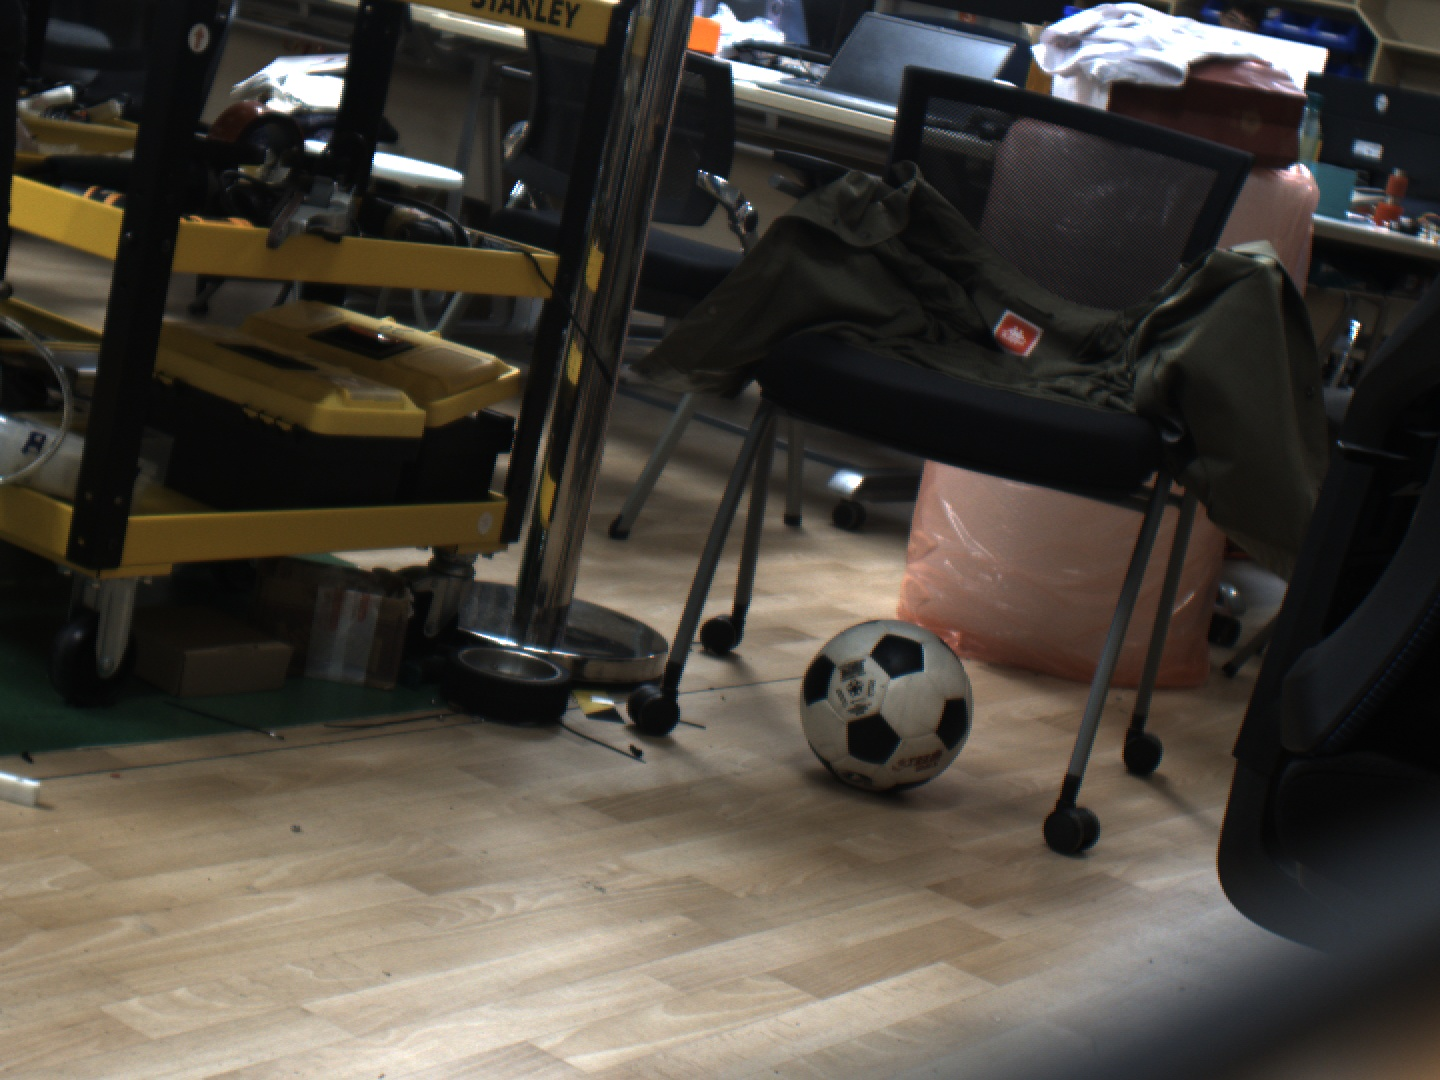ball: (782, 608, 989, 820)
